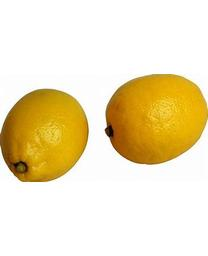lemon: (106, 72, 207, 164), (0, 87, 89, 183)
